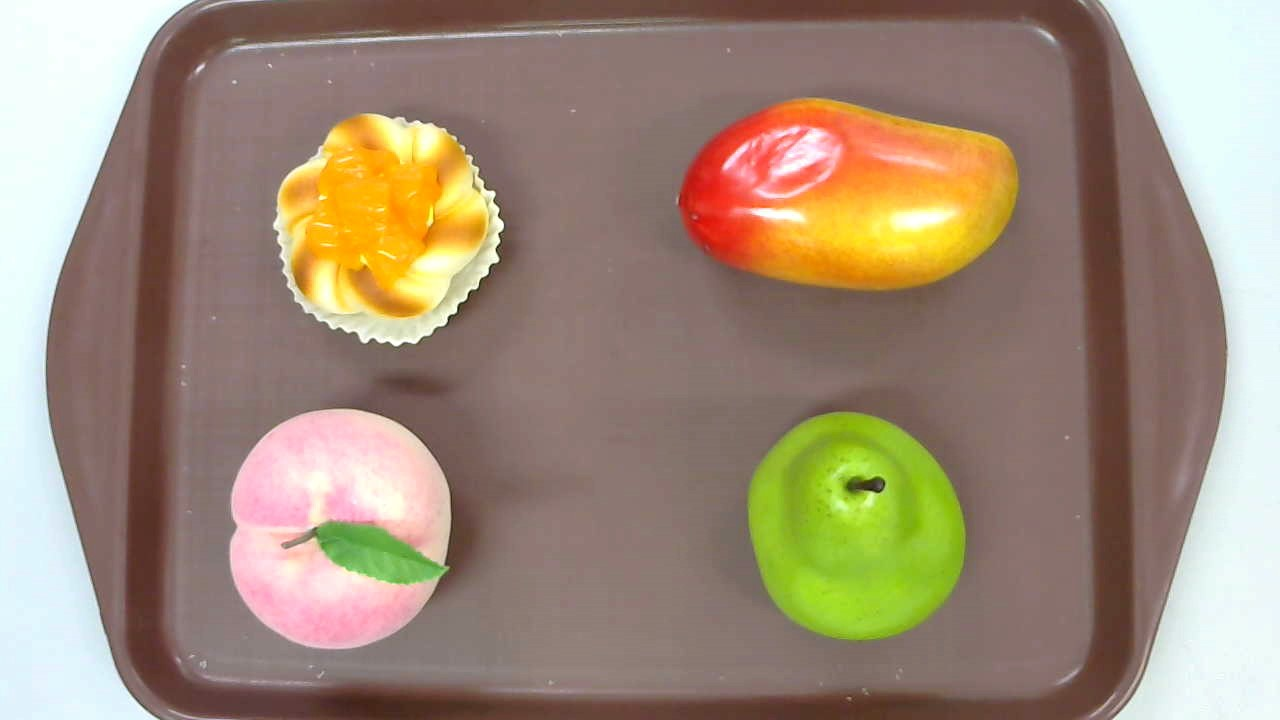green pear: (747, 411, 966, 641)
mango tart: (272, 113, 504, 348)
peach: (229, 408, 453, 648)
red mango: (678, 97, 1019, 292)
